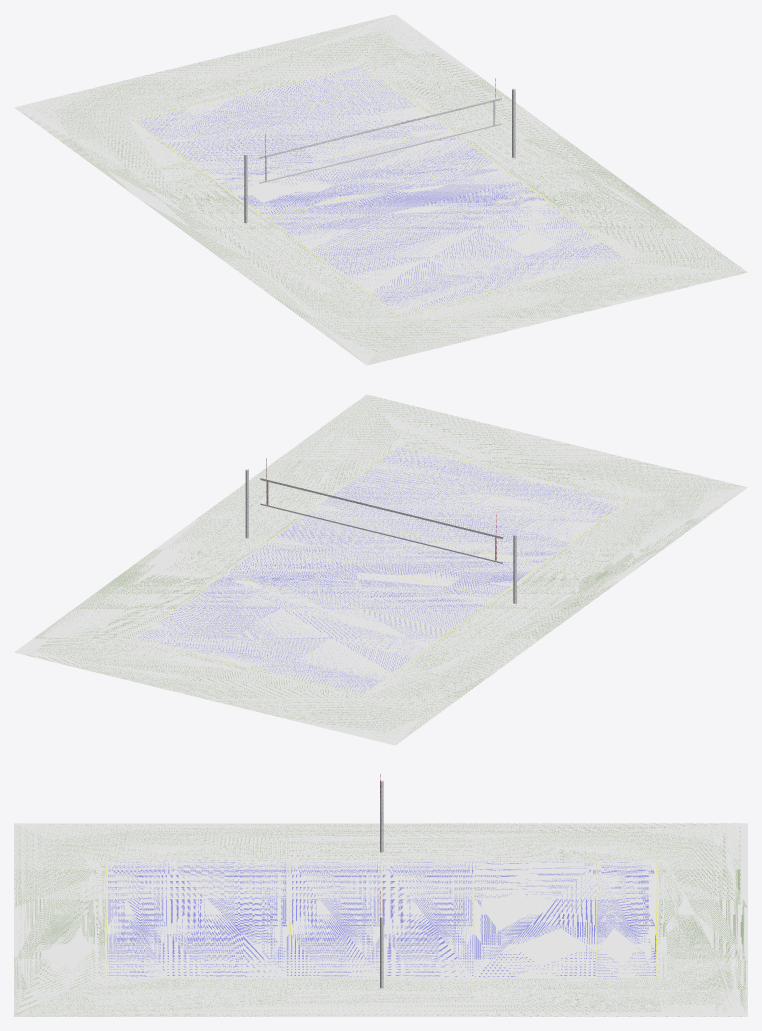
3 renders of one model, top to bottom at view 1: azimuth 30°, elevation 25°; view 2: azimuth 150°, elevation 25°; view 3: azimuth 270°, elevation 25°, orthographic. The views are drawn at different scales.
Parts seen in each view (by area): view 1: SketchUp (×8); view 2: SketchUp (×8); view 3: SketchUp (×8).
Part boxes in pixels (x1,y1,x2,y2): SketchUp (×8): [14, 14, 747, 365]; SketchUp (×8): [14, 394, 747, 745]; SketchUp (×8): [14, 823, 747, 1016].
Size of the model in its own units: 589 by 943 by 124.
